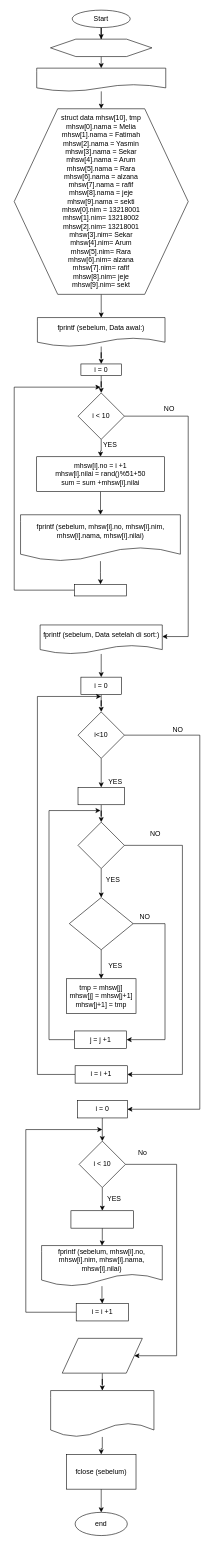
Image size: 215x1546. Some labels were removed from this diagram. The centre of each missing label's shape, as x and y in pixels:
DIsplay : sum/10: the point at 102,1355
fprintf (sebelum, nilai rata-rata : sum/10): the point at 102,1413
i = i + 1: the point at 100,590
int i, j, sum=0 FILE *sebelum: the point at 101,48
j < 9 - i: the point at 100,845
j = 0: the point at 100,796
mhsw[i].no = i +1: the point at 102,1219
mhsw[j].nilai < mhsw[j+1].nilai: the point at 101,923
sebelum = fopen(sebelum.txt, write): the point at 101,79
